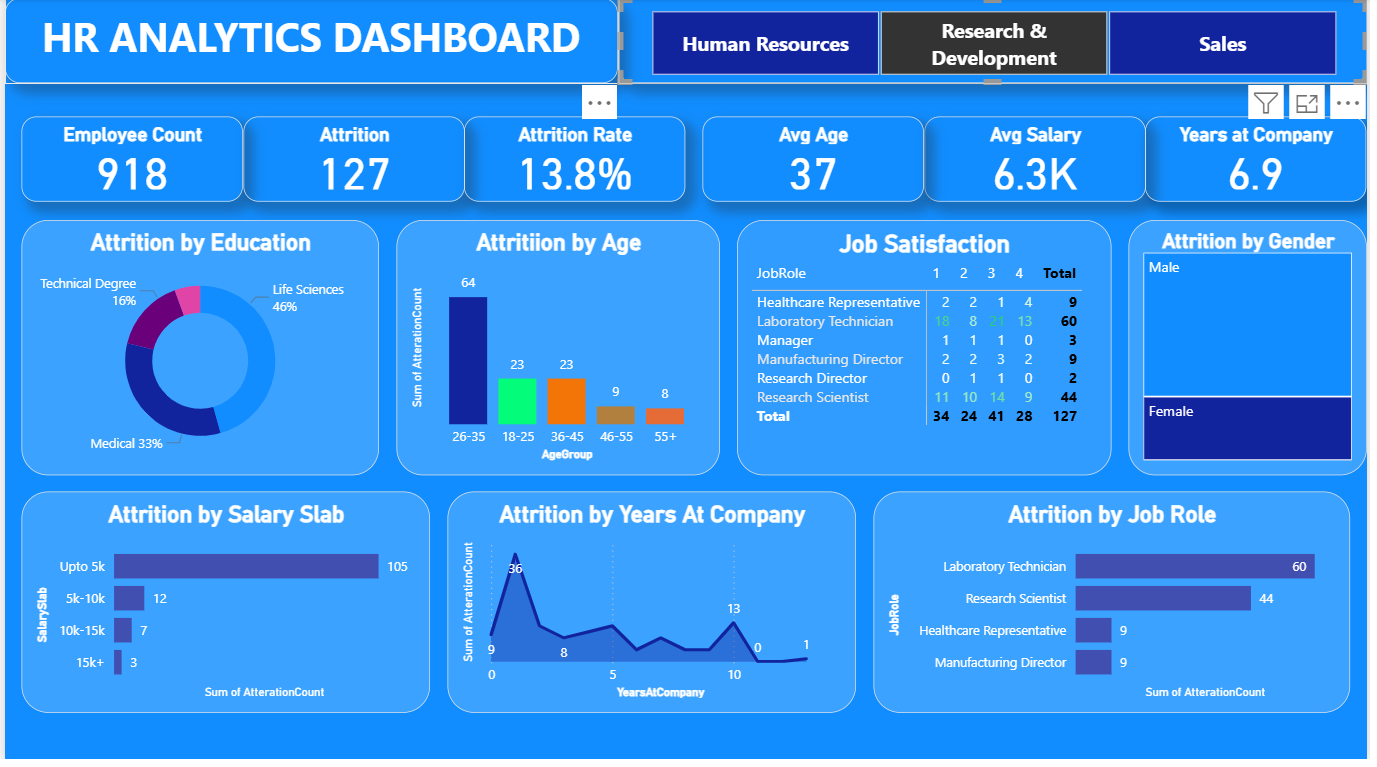

This screenshot's page, from the dashboard's own definition file:
{"tool":"powerbi","page":{"name":"Page 1","canvas":[1280,720],"ordinal":0},"visuals":[{"type":"card","title":"Employee Count","fields":{"Values":["CountNonNull(HR_Analytics.EmpID)"]},"box":[16,112,208,80],"z":0},{"type":"donutChart","title":"Attrition by Education","fields":{"Category":["HR_Analytics.EducationField"],"Y":["Sum(HR_Analytics.AtterationCount)"]},"box":[16,208,336,240],"z":1000},{"type":"card","title":"Attrition","fields":{"Values":["Sum(HR_Analytics.AtterationCount)"]},"box":[224,112,208,80],"z":2000},{"type":"columnChart","title":"Attritiion by Age","fields":{"Category":["HR_Analytics.AgeGroup"],"Y":["Sum(HR_Analytics.AtterationCount)"]},"box":[368,208,304,240],"z":3000},{"type":"card","title":"Attrition Rate","fields":{"Values":["HR_Analytics.AttritionRate"]},"box":[432,112,208,80],"z":4000},{"type":"pivotTable","title":"Job Satisfaction ","fields":{"Rows":["HR_Analytics.JobRole"],"Columns":["HR_Analytics.JobSatisfaction"],"Values":["Sum(HR_Analytics.AtterationCount)"]},"box":[688,208,352,240],"z":5000},{"type":"barChart","title":"Attrition by Salary Slab","fields":{"Category":["HR_Analytics.SalarySlab"],"Y":["Sum(HR_Analytics.AtterationCount)"]},"box":[16,464,384,208],"z":6000},{"type":"card","title":"Avg Salary","fields":{"Values":["Avg(HR_Analytics.MonthlyIncome)"]},"box":[864,112,208,80],"z":7000},{"type":"barChart","title":"Attrition by Job Role","fields":{"Y":["Sum(HR_Analytics.AtterationCount)"],"Category":["HR_Analytics.JobRole"]},"box":[816,464,448,208],"z":8000},{"type":"card","title":"Years at Company","fields":{"Values":["Avg(HR_Analytics.YearsAtCompany)"]},"box":[1072,112,208,80],"z":9000},{"type":"areaChart","title":"Attrition by Years At Company","fields":{"Category":["HR_Analytics.YearsAtCompany"],"Y":["Sum(HR_Analytics.AtterationCount)"]},"box":[416,464,384,208],"z":10000},{"type":"treemap","title":"Attrition by Gender","fields":{"Group":["HR_Analytics.Gender"],"Values":["Sum(HR_Analytics.AtterationCount)"]},"box":[1056,208,224,240],"z":11000},{"type":"slicer","fields":{"Values":["HR_Analytics.Department"]},"box":[576,0,704,80],"z":12000},{"type":"textbox","box":[0,0,576,80],"z":13000},{"type":"card","title":"Avg Age","fields":{"Values":["Avg(HR_Analytics.Age)"]},"box":[656,112,208,80],"z":14000}]}

Visuals, with their boxes in screenshot pixels (x1, y1, x2, y2), scaled from the page's 1280x720 canvas onto the 1377x767 screenshot:
"Employee Count" card: (x1=17, y1=119, x2=241, y2=205)
"Attrition by Education" donutChart: (x1=17, y1=222, x2=379, y2=477)
"Attrition" card: (x1=241, y1=119, x2=465, y2=205)
"Attritiion by Age" columnChart: (x1=396, y1=222, x2=723, y2=477)
"Attrition Rate" card: (x1=465, y1=119, x2=688, y2=205)
"Job Satisfaction " pivotTable: (x1=740, y1=222, x2=1119, y2=477)
"Attrition by Salary Slab" barChart: (x1=17, y1=494, x2=430, y2=716)
"Avg Salary" card: (x1=929, y1=119, x2=1153, y2=205)
"Attrition by Job Role" barChart: (x1=878, y1=494, x2=1360, y2=716)
"Years at Company" card: (x1=1153, y1=119, x2=1376, y2=205)
"Attrition by Years At Company" areaChart: (x1=448, y1=494, x2=861, y2=716)
"Attrition by Gender" treemap: (x1=1136, y1=222, x2=1376, y2=477)
slicer - HR_Analytics.Department: (x1=620, y1=0, x2=1376, y2=85)
textbox: (x1=0, y1=0, x2=620, y2=85)
"Avg Age" card: (x1=706, y1=119, x2=929, y2=205)
